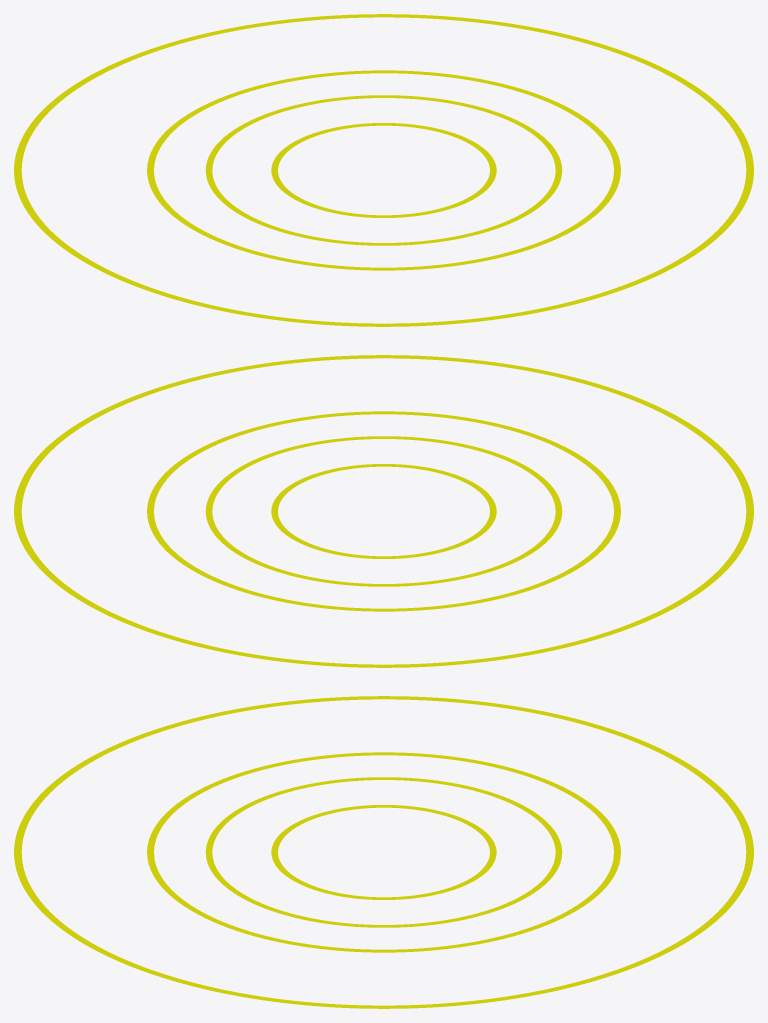
The model's file is ring_4.fbx.
3 renders of one model, top to bottom at view 1: azimuth 30°, elevation 25°; view 2: azimuth 150°, elevation 25°; view 3: azimuth 270°, elevation 25°, orthographic.
Parts seen in each view (by area): view 1: r4; view 2: r4; view 3: r4.
Part boxes in pixels (box(x1,y1,x2,y2)): r4: box(14, 14, 753, 326); r4: box(14, 355, 753, 667); r4: box(14, 696, 753, 1008).
Bounding box in the file's own units: 962 × 0 × 962.
